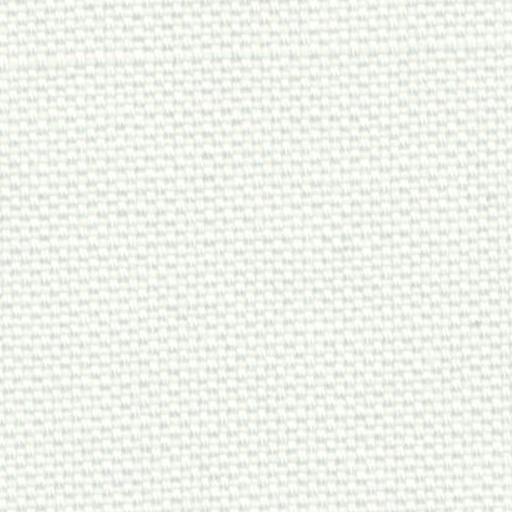TuoSha: (16, 20, 502, 90)
